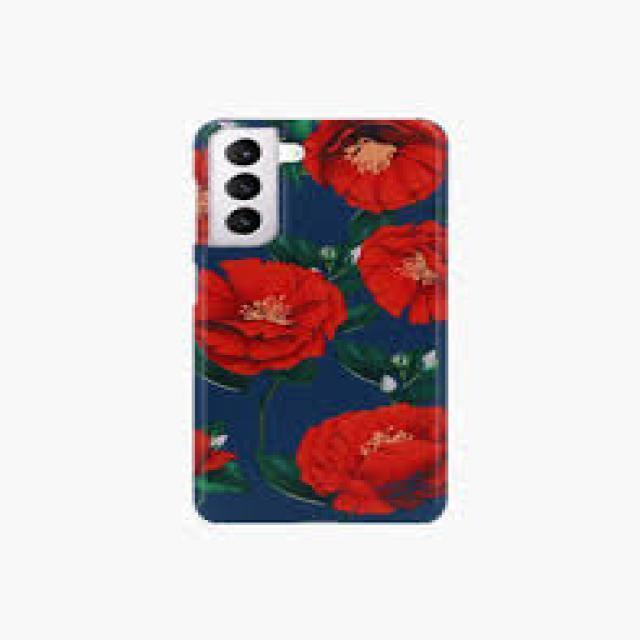lens: (214, 126, 275, 244)
phone: (186, 106, 457, 532)
